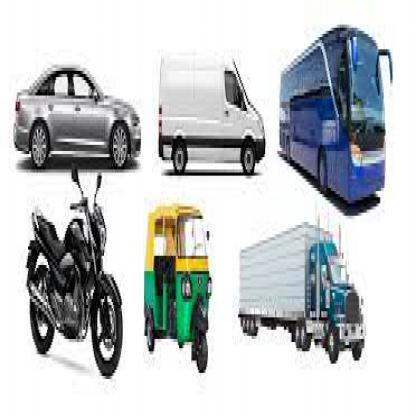bike: (29, 185, 122, 382)
bus: (277, 25, 396, 203)
car: (9, 52, 142, 172)
lorry: (230, 206, 368, 360)
tuk: (142, 200, 217, 364)
van: (154, 46, 268, 185)
